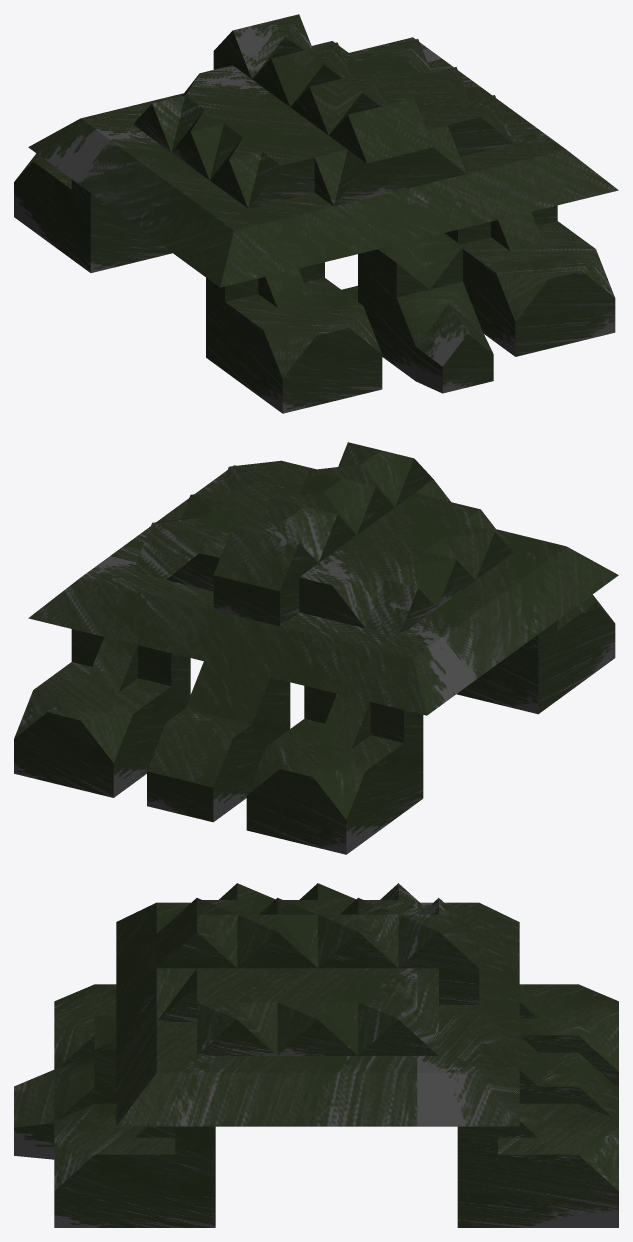
The model's file is turtle_altar.FBX.
3 renders of one model, top to bottom at view 1: azimuth 30°, elevation 25°; view 2: azimuth 150°, elevation 25°; view 3: azimuth 270°, elevation 25°, orthographic. The views are drawn at different scales.
Visible parts, largest first — view 1: Turtle Shrine; view 2: Turtle Shrine; view 3: Turtle Shrine.
Boxes of the visible parts, <box> form: Turtle Shrine: <box>14,14,618,413</box>; Turtle Shrine: <box>14,442,618,854</box>; Turtle Shrine: <box>14,883,618,1227</box>.
Size of the model in its own units: 120 by 62.38 by 150.
1 material, 1 textured.
